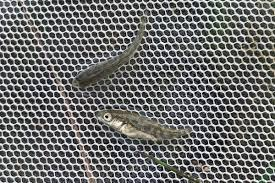fish: (64, 7, 162, 104), (88, 102, 206, 148), (92, 102, 123, 133)
